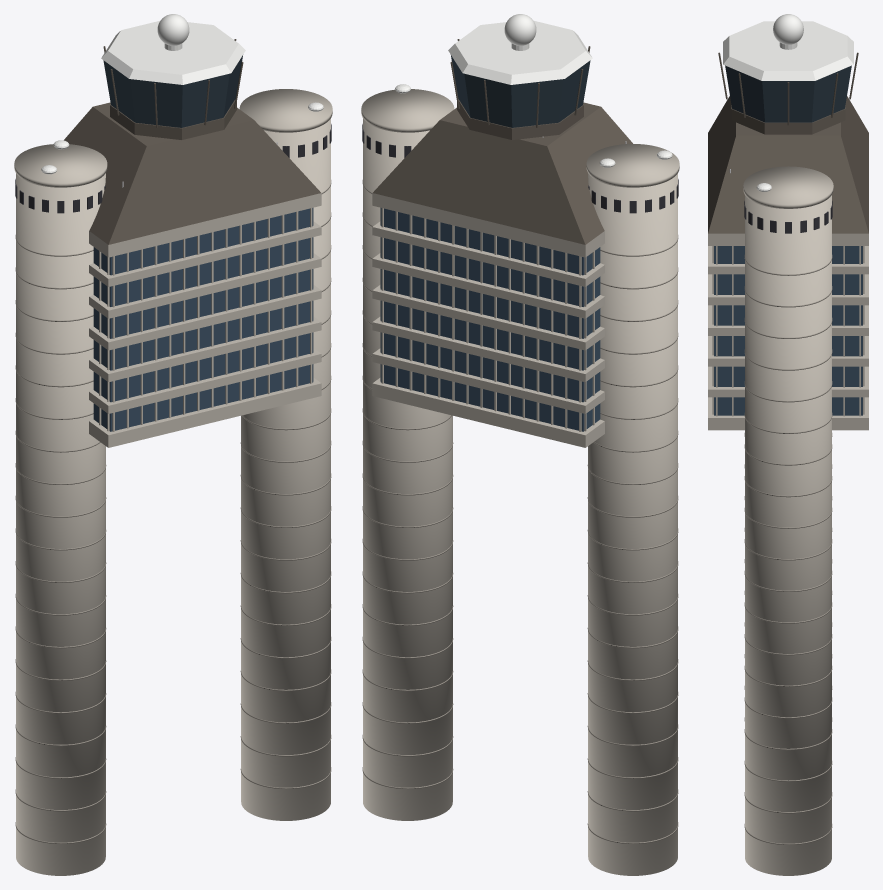
Rendered from kbos-tower.glb.
3 views of the same model, side by side, from view 1: azimuth 30°, elevation 25°; view 2: azimuth 150°, elevation 25°; view 3: azimuth 270°, elevation 25° (orthographic). The views are drawn at different scales.
Visible parts, largest first — view 1: KBOS_Tower; view 2: KBOS_Tower; view 3: KBOS_Tower.
Part boxes in pixels (x1,y1,x2,y2): KBOS_Tower: (14, 14, 332, 875); KBOS_Tower: (361, 14, 679, 875); KBOS_Tower: (708, 14, 868, 875).
Size of the model in its own units: 35.3 by 89.8 by 16.6.
